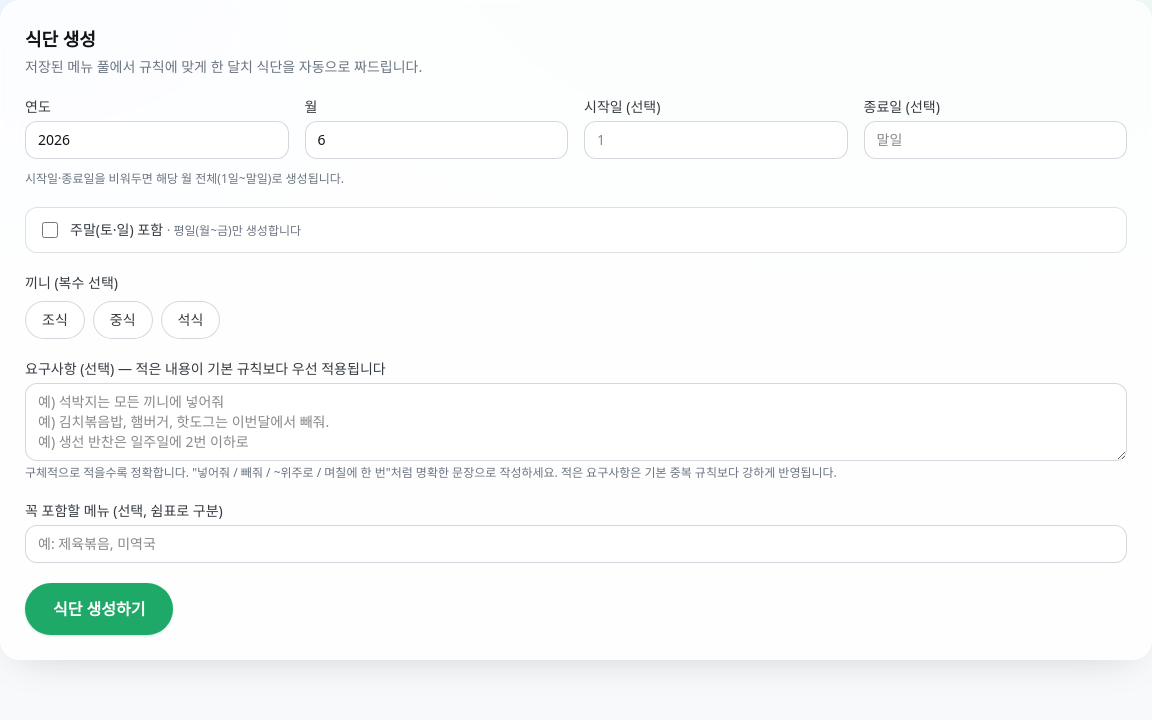
Test: GenerateMealPlanForm › 초기화 버튼을 누르면 결과가 사라지고 재마운트해도 복원되지 않는다
The width and height of the screenshot is (1152, 720).
Click the button "조식" at x=55, y=320, box [25, 301, 85, 339]
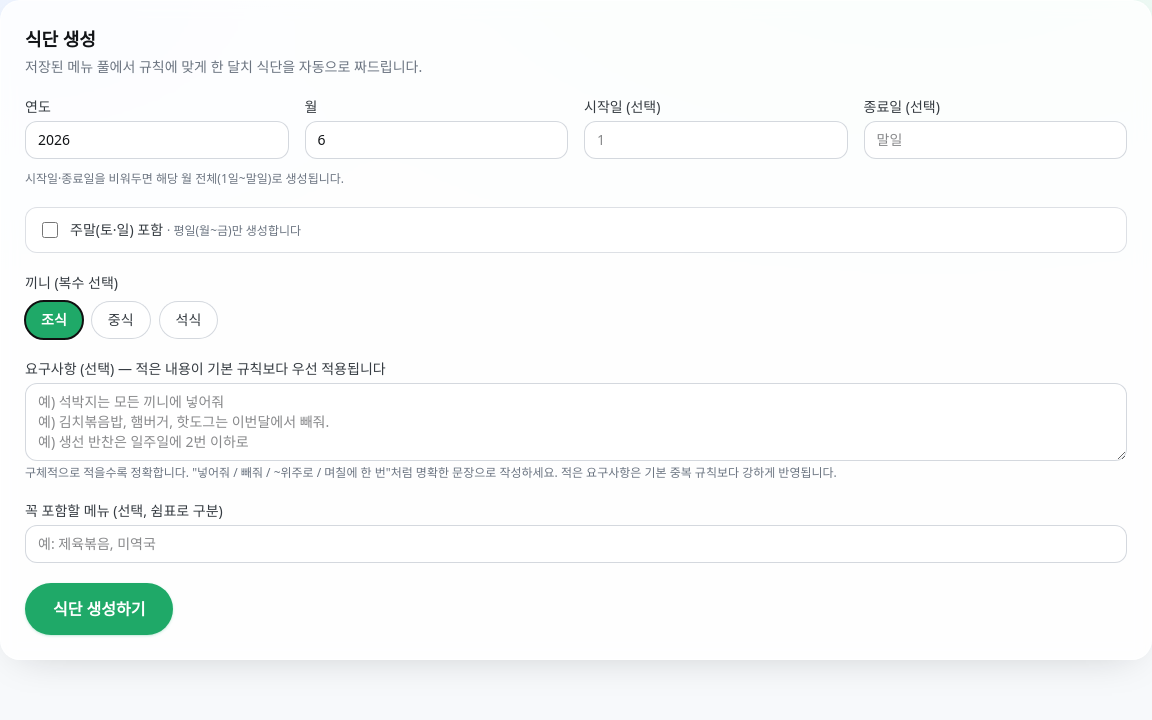
Click the button "식단 생성하기" at x=99, y=609, box [25, 583, 174, 635]
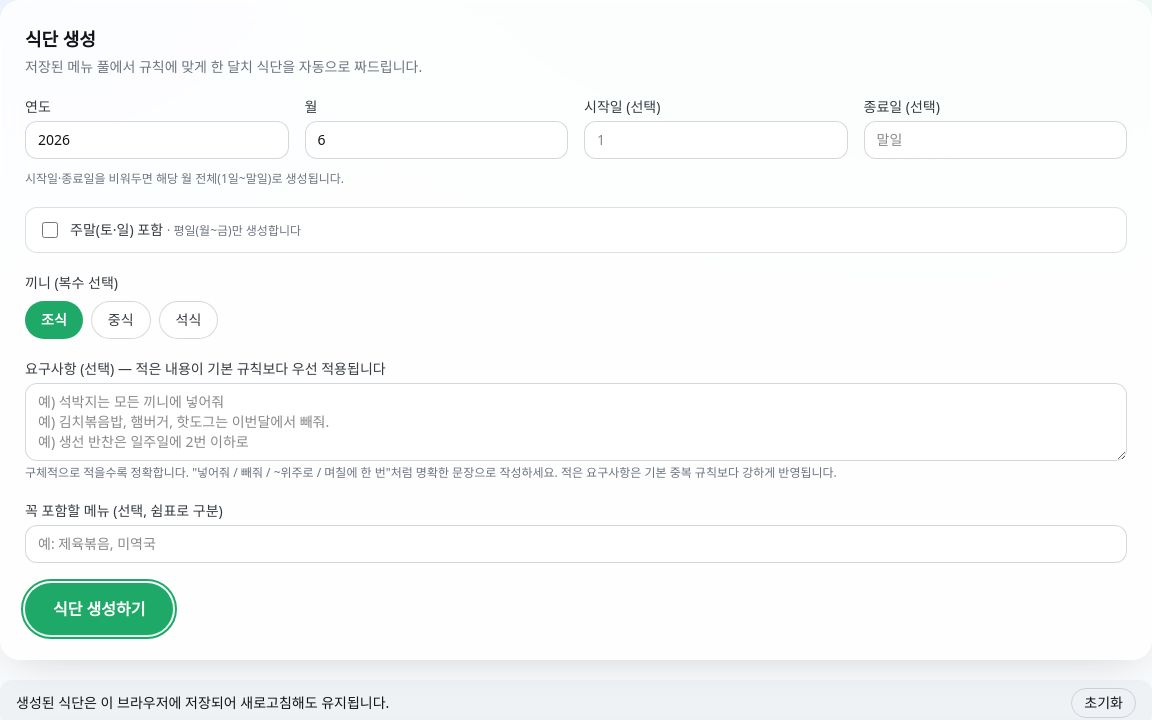
// 초기화 → 화면에서 결과 제거
Click the button "초기화" at x=1104, y=703, box [1071, 688, 1136, 718]
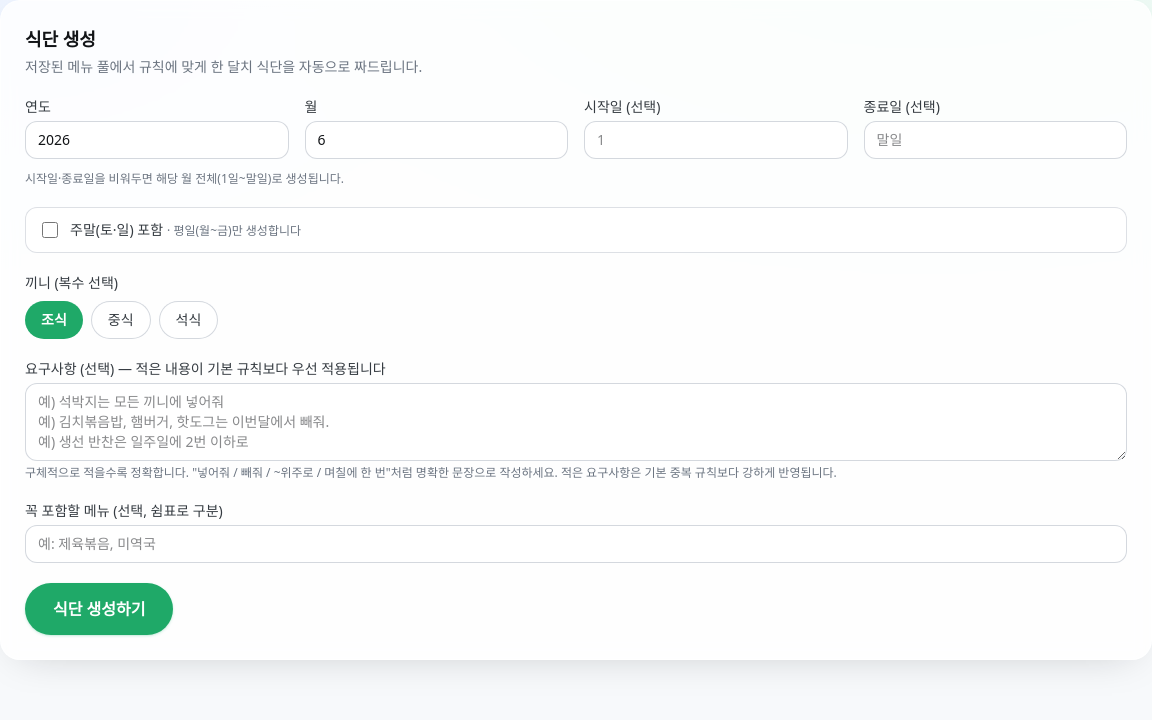
Now the text "생성된 식단" is gone
